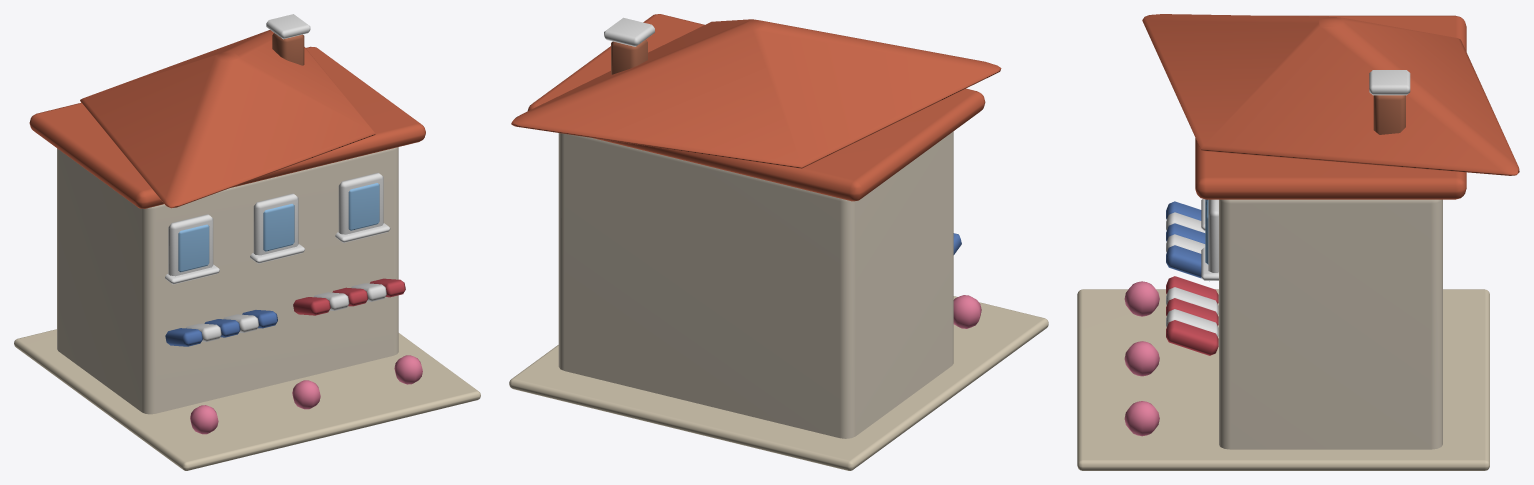
3 views of the same model, side by side, from view 1: azimuth 30°, elevation 25°; view 2: azimuth 150°, elevation 25°; view 3: azimuth 270°, elevation 25° (orthographic). The views are drawn at different scales.
Parts seen in each view (by area): view 1: Cube; view 2: Cube; view 3: Cube.
Part boxes in pixels (x1,y1,x2,y2): Cube: (14, 14, 480, 470); Cube: (509, 14, 1048, 470); Cube: (1077, 14, 1519, 470).
Size of the model in its own units: 0.7 by 0.68 by 0.7501.
